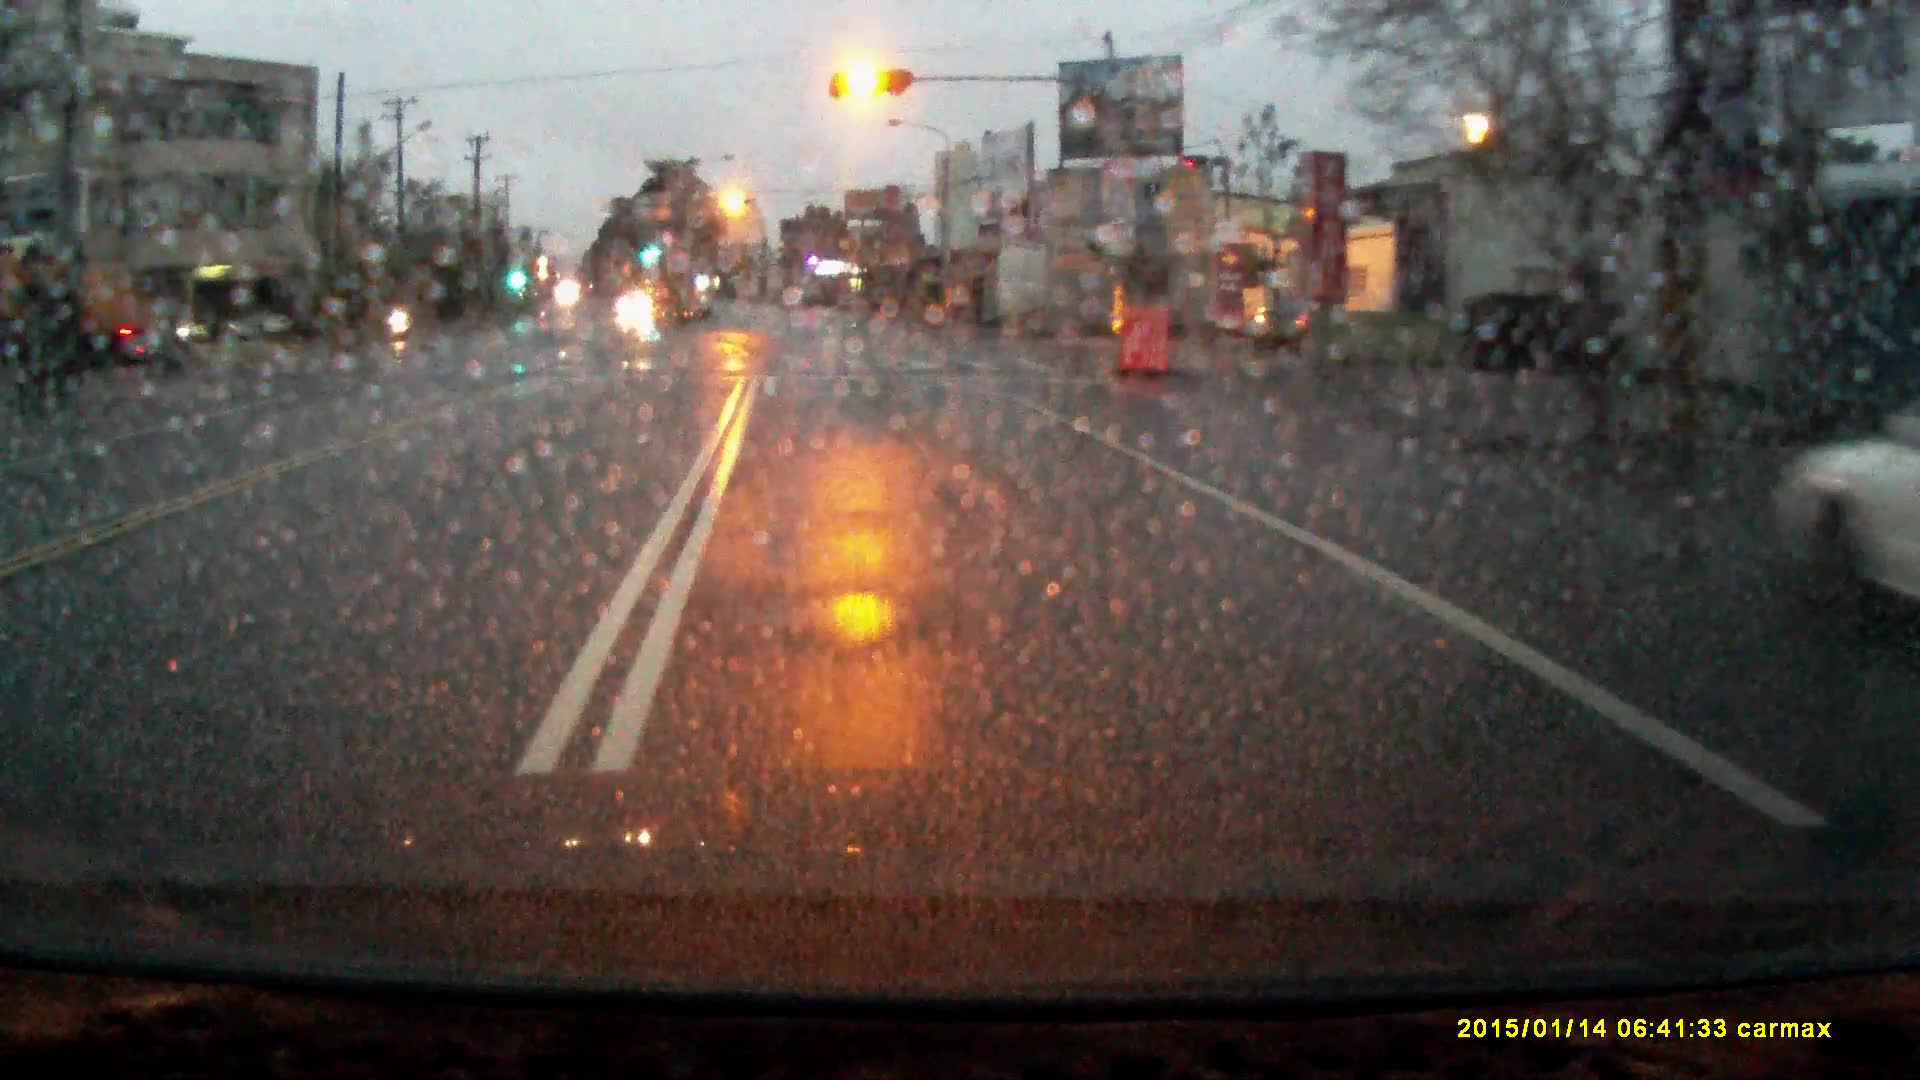rider: (384, 278, 411, 346)
vehicle: (1, 258, 148, 366), (617, 290, 653, 317)
